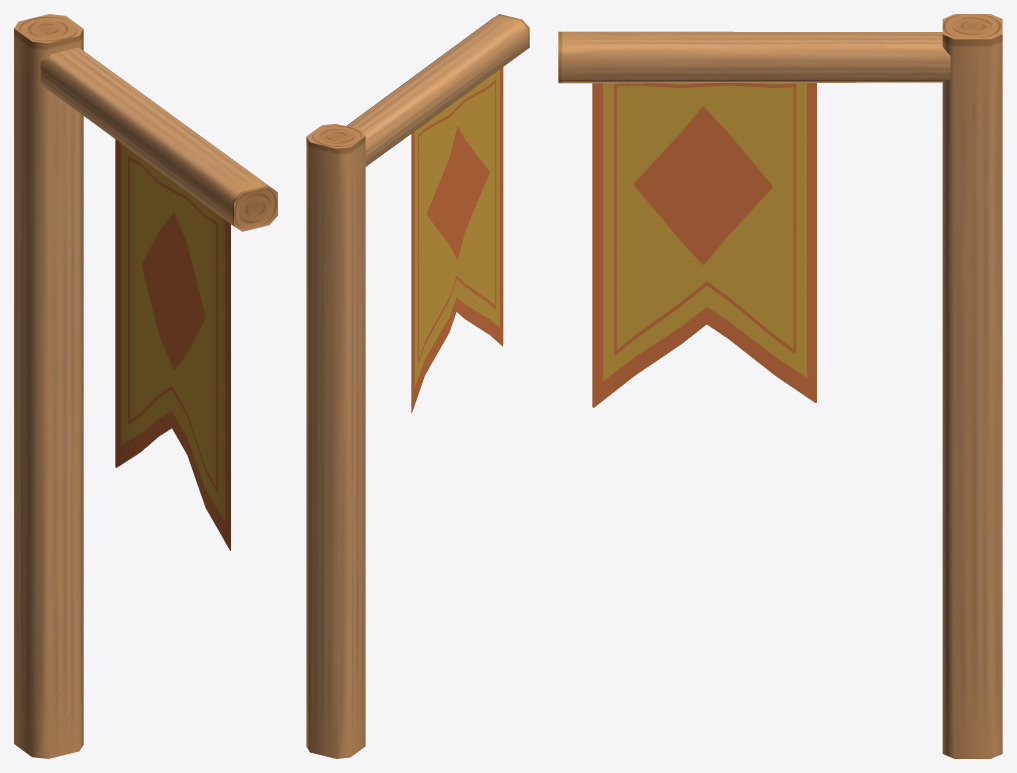
Rendered from Palm Wood Flag Post Hand.fbx.
The picture shows the model from 3 angles, left to right: view 1: azimuth 30°, elevation 25°; view 2: azimuth 150°, elevation 25°; view 3: azimuth 270°, elevation 25°; orthographic projection. The views are drawn at different scales.
Visible parts, largest first — view 1: FencePost (1), Flag (2); view 2: FencePost (1), Flag (2); view 3: FencePost (1), Flag (2).
Boxes of the visible parts, x1=… form: FencePost (1): x1=14, y1=14, x2=277, y2=758; Flag (2): x1=115, y1=139, x2=230, y2=550; FencePost (1): x1=306, y1=14, x2=529, y2=758; Flag (2): x1=411, y1=67, x2=503, y2=413; FencePost (1): x1=558, y1=14, x2=1002, y2=758; Flag (2): x1=592, y1=83, x2=816, y2=407.
Bounding box in the file's own units: 0.1669 × 2.21 × 1.24.
